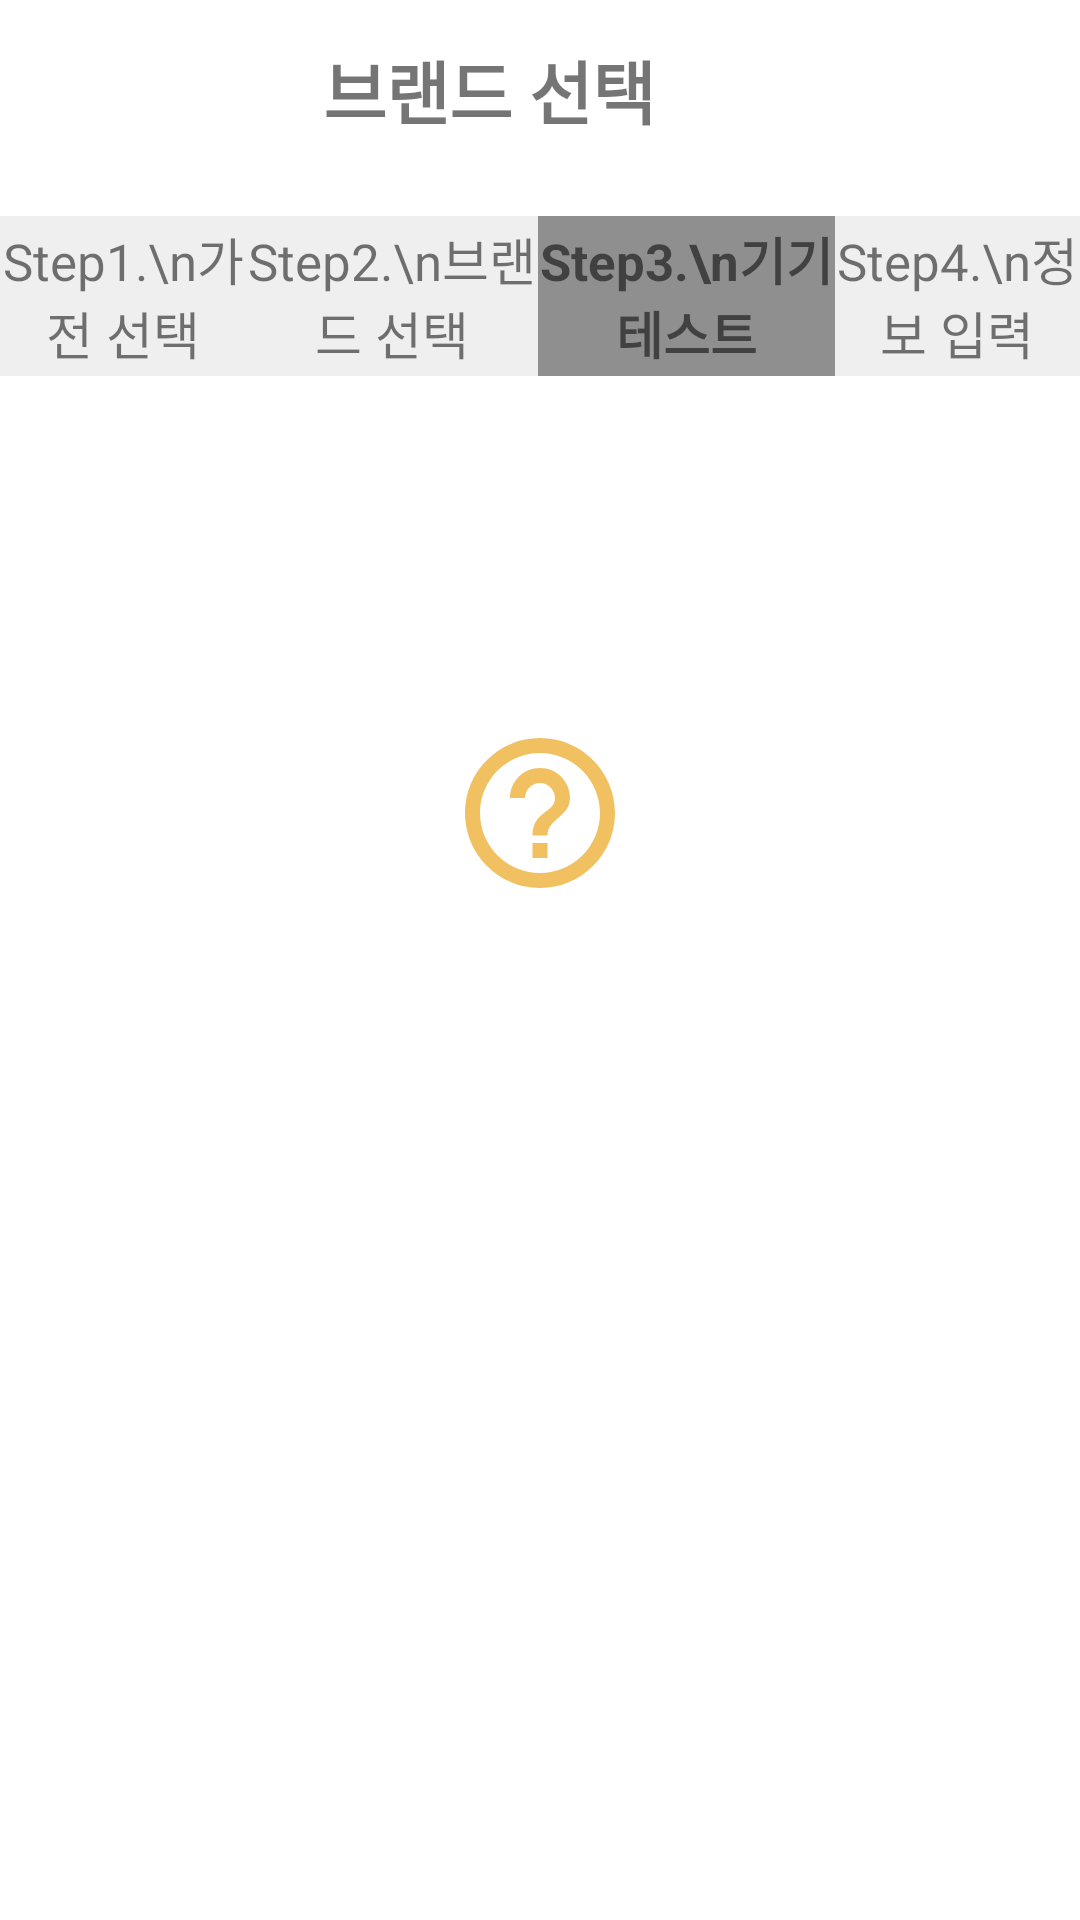

Locate icon controls on the screen. Image size 1080 × 1920, boxes as (x1, y1, x2, y2).
help: (465, 738, 615, 888)
